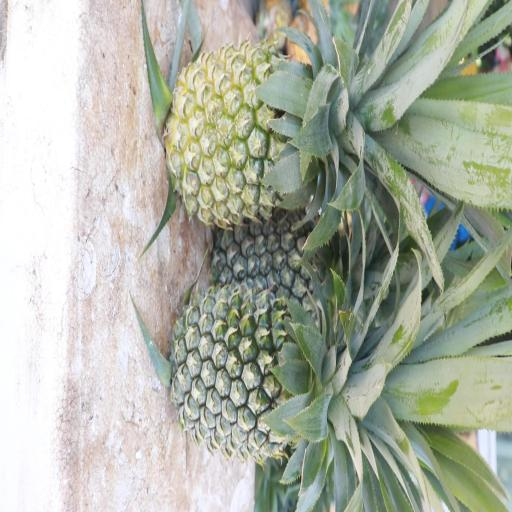Pineapple - v8 v1: (163, 47, 370, 225)
